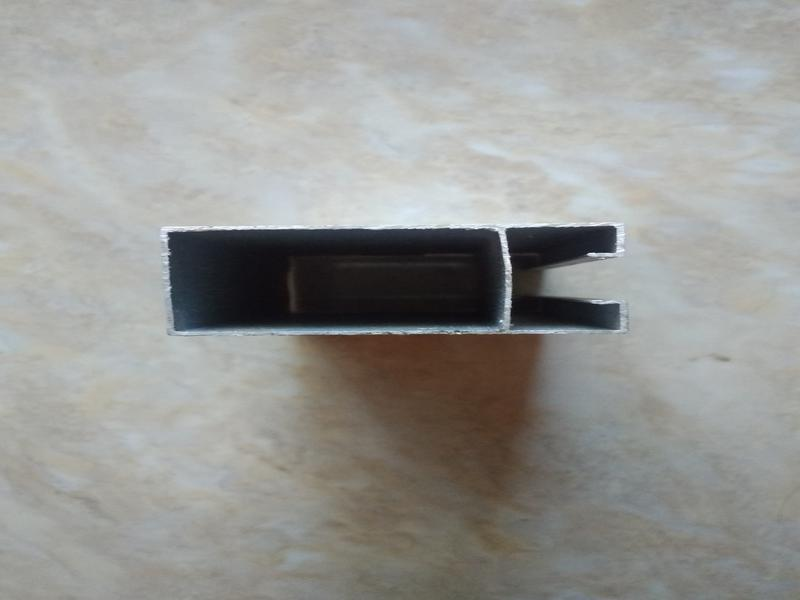Aluminium_1: (144, 204, 654, 355)
